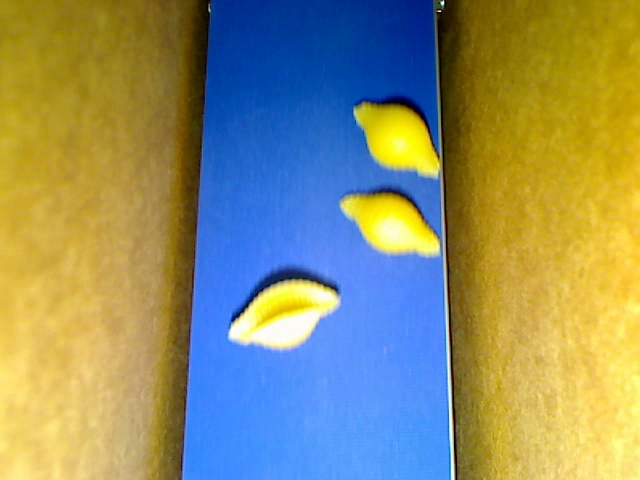shell: (227, 280, 341, 354), (352, 101, 441, 177), (337, 191, 441, 256)
